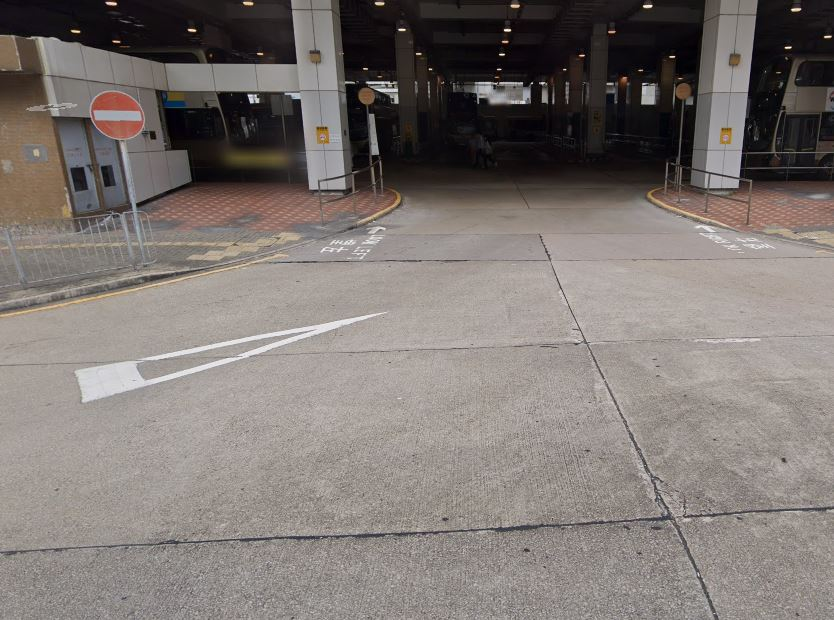No Enter: (90, 85, 144, 140)
